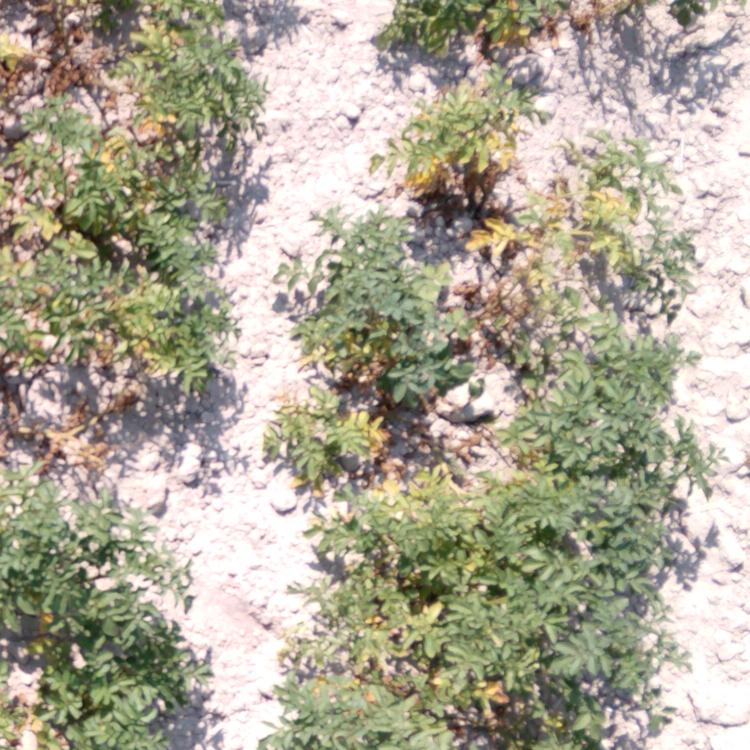healthy: (512, 324, 726, 500), (1, 474, 178, 595), (549, 503, 688, 632), (299, 213, 442, 325), (30, 657, 189, 750), (93, 595, 206, 655)
stressed: (250, 636, 661, 750), (1, 108, 240, 273), (261, 319, 466, 502), (311, 505, 548, 633), (464, 207, 695, 323), (1, 275, 225, 392), (407, 73, 539, 203), (124, 1, 272, 108), (378, 1, 613, 56), (553, 132, 670, 205), (1, 594, 90, 653), (1, 44, 81, 94), (45, 417, 95, 469), (668, 1, 703, 38)
